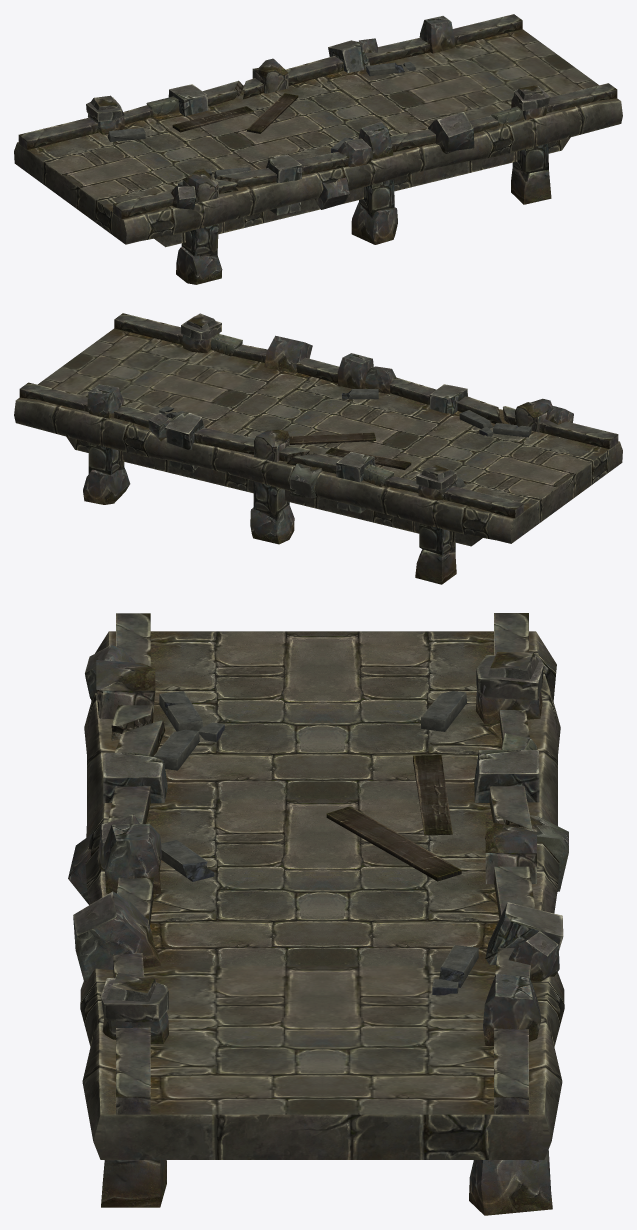
The model's file is Bridge1.fbx.
3 views of the same model, one above another, from view 1: azimuth 30°, elevation 25°; view 2: azimuth 150°, elevation 25°; view 3: azimuth 270°, elevation 25° (orthographic). The views are drawn at different scales.
Visible parts, largest first — view 1: Bridge1; view 2: Bridge1; view 3: Bridge1.
Boxes of the visible parts, <box> form: Bridge1: <box>14,14,622,284</box>; Bridge1: <box>14,313,622,584</box>; Bridge1: <box>68,613,568,1215</box>.
Size of the model in its own units: 10 by 2.09 by 4.38.
